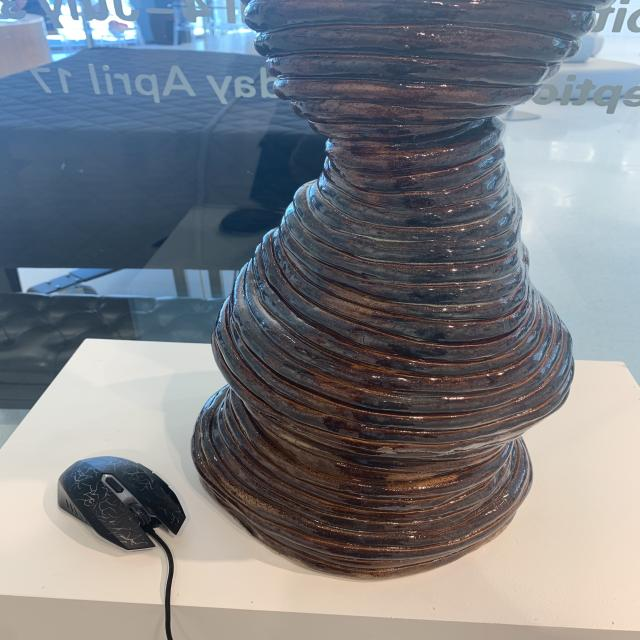Mouse: (40, 448, 191, 556)
